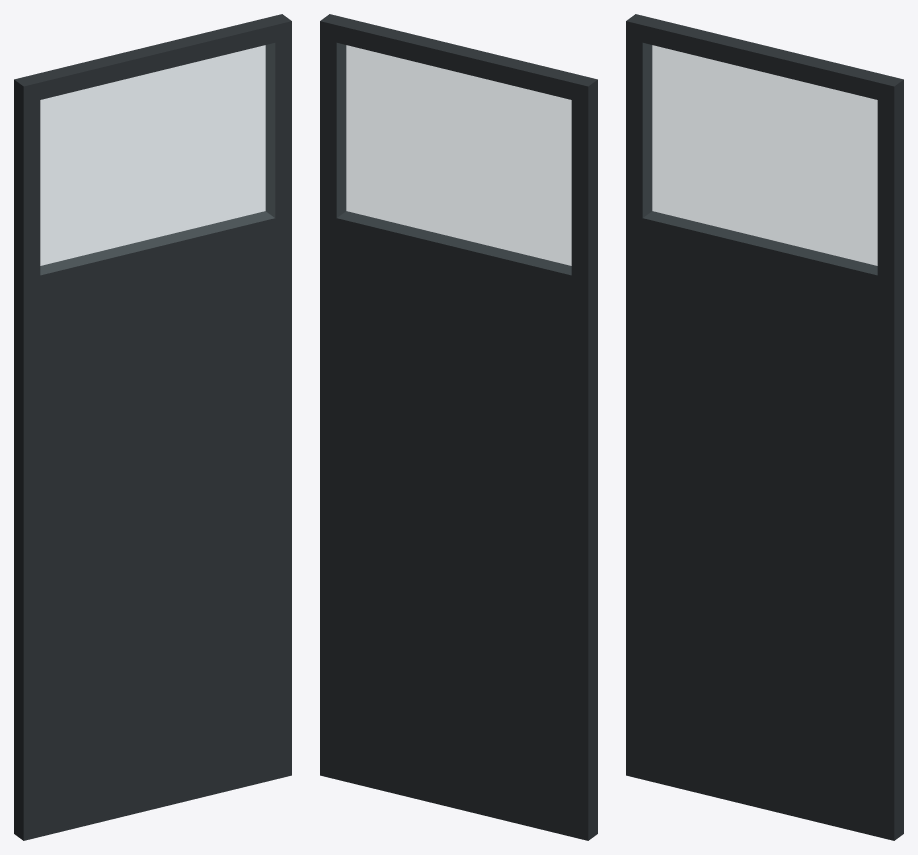
The model's file is prison_bus_door.glb.
3 renders of one model, left to right at view 1: azimuth 30°, elevation 25°; view 2: azimuth 150°, elevation 25°; view 3: azimuth 330°, elevation 25°, orthographic.
Visible parts, largest first — view 1: body:compound; view 2: body:compound; view 3: body:compound.
Boxes of the visible parts, x1,y1,x2,y2 form: body:compound: [14, 14, 291, 840]; body:compound: [320, 14, 597, 840]; body:compound: [626, 14, 903, 840].
Size of the model in its own units: 1 by 2.69 by 0.0625.
